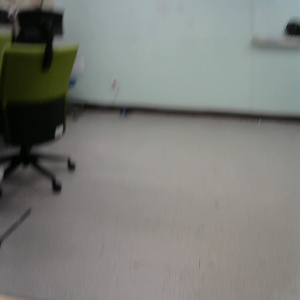Drone: (3, 4, 84, 279)
